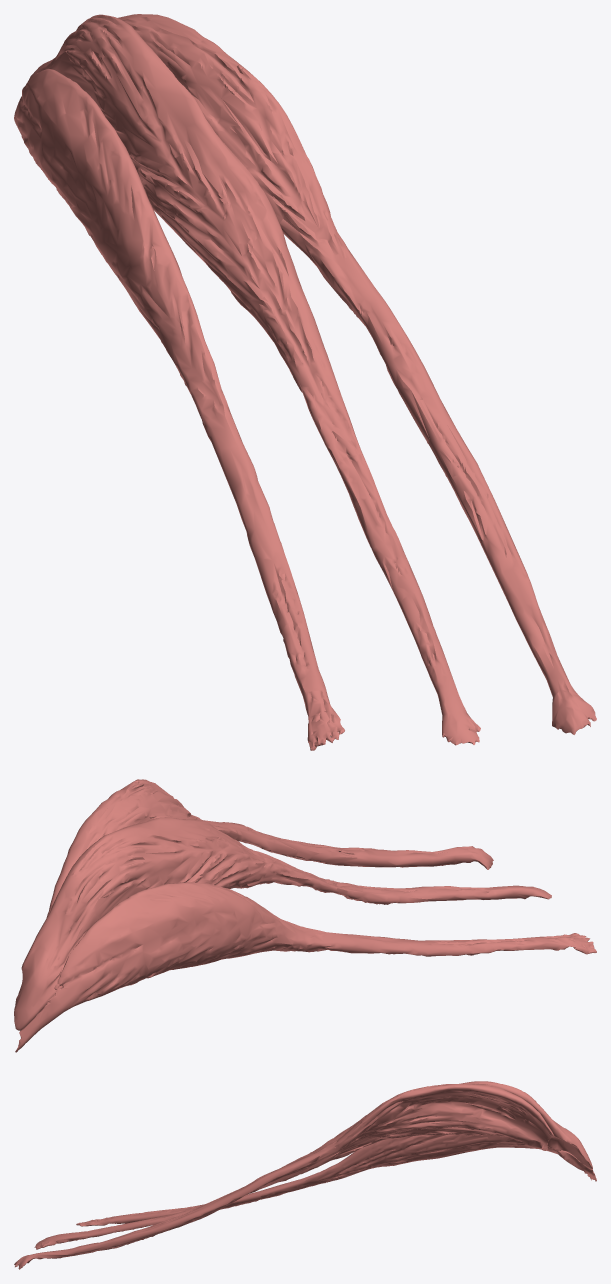
Rendered from fma51142.glb.
3 renders of one model, top to bottom at view 1: azimuth 30°, elevation 25°; view 2: azimuth 150°, elevation 25°; view 3: azimuth 270°, elevation 25°, orthographic. The views are drawn at different scales.
Visible parts, largest first — view 1: FMA51142; view 2: FMA51142; view 3: FMA51142.
Part boxes in pixels (<box>): FMA51142: <box>14,14,596,750</box>; FMA51142: <box>14,779,596,1052</box>; FMA51142: <box>14,1081,596,1269</box>.
Size of the model in its own units: 0.0415 by 0.0569 by 0.1492.
